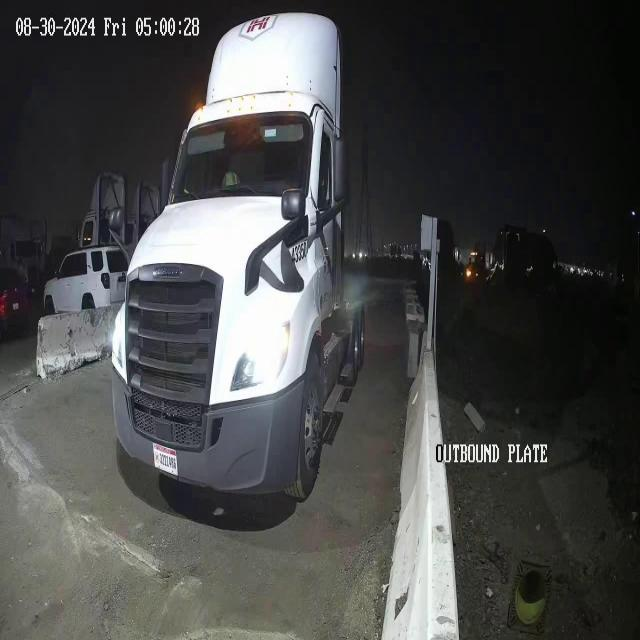TRUCK_OUT: (110, 11, 366, 506)
